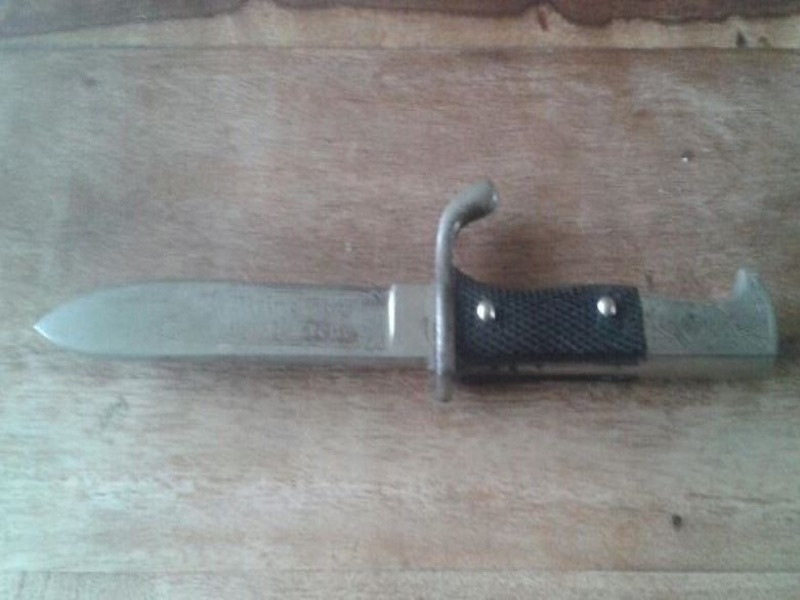knife: (30, 265, 776, 374)
